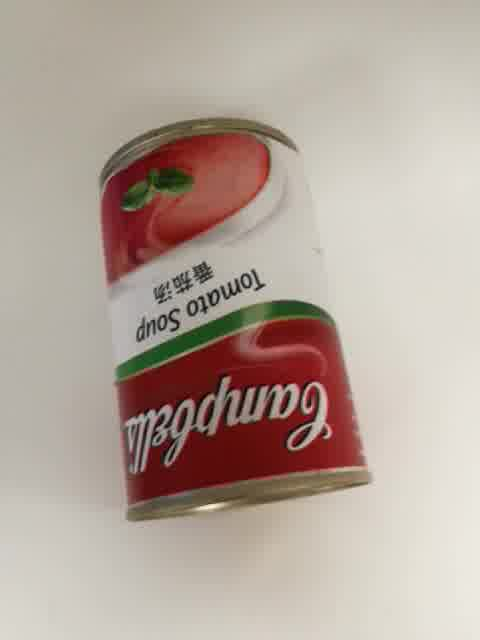tomatosoup: (96, 116, 374, 526)
